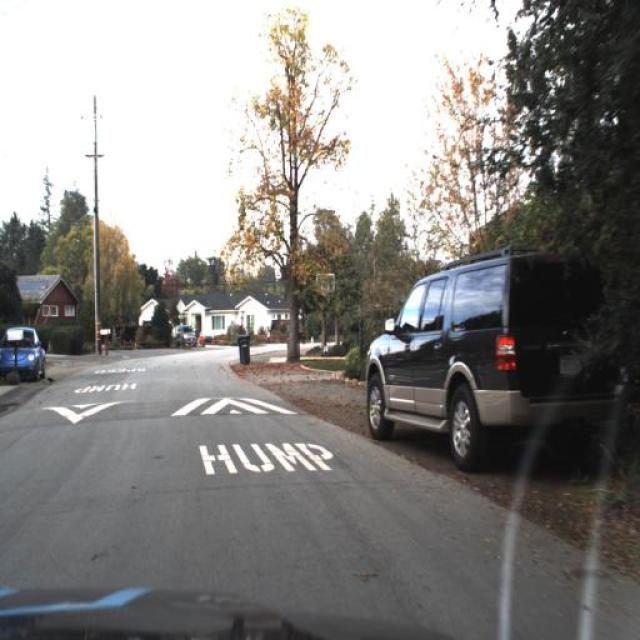car: (352, 228, 639, 472), (0, 324, 48, 384), (168, 317, 200, 354)
